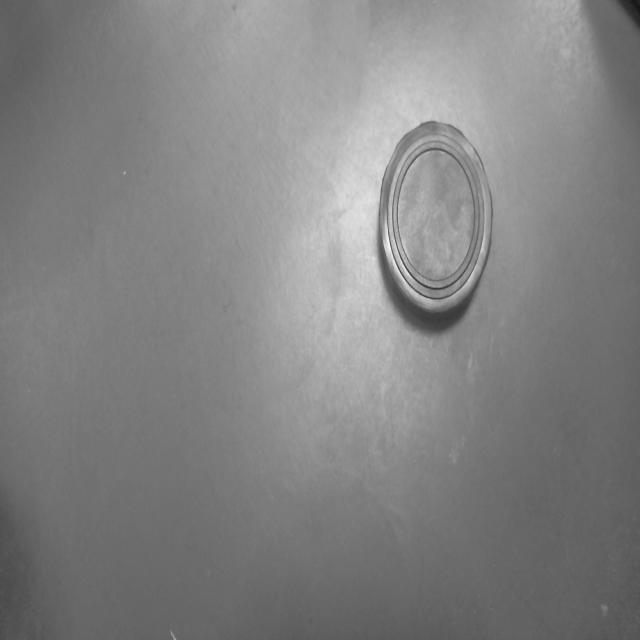cover: (368, 108, 505, 339)
